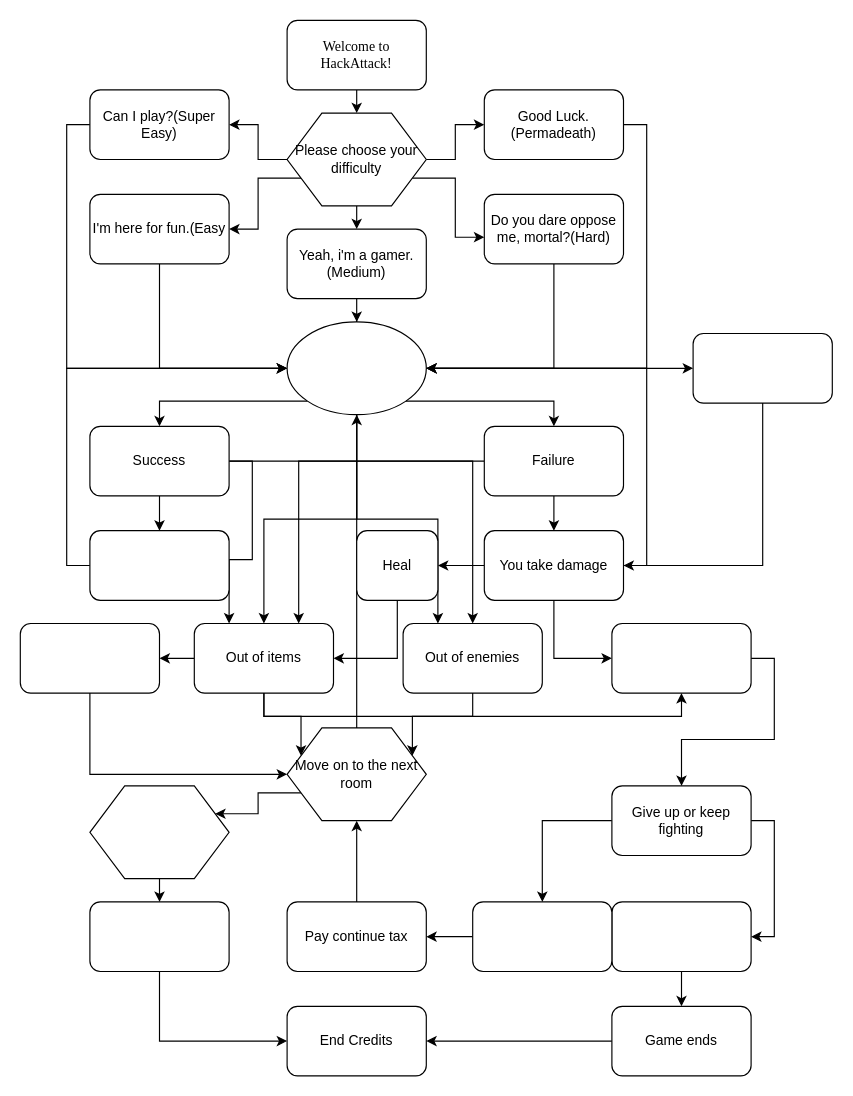
The diagram is 853 pixels wide and 1096 high, and some of its shapes have lost their labels. Each missing label, with the centre of its shape:
Attack Enemy: (x=356, y=368)
Beat final room: (x=159, y=832)
Beat Game: (x=159, y=936)
Enemy attacks: (x=762, y=367)
Enemy takes damage: (x=159, y=565)
Give up: (x=681, y=936)
Keep fighting: (x=542, y=936)
Purchase more items in store: (x=89, y=657)
You die: (x=681, y=657)
